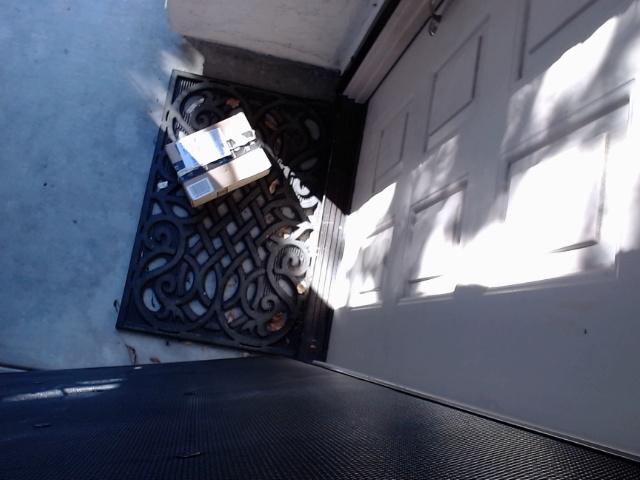box: (164, 111, 272, 208)
